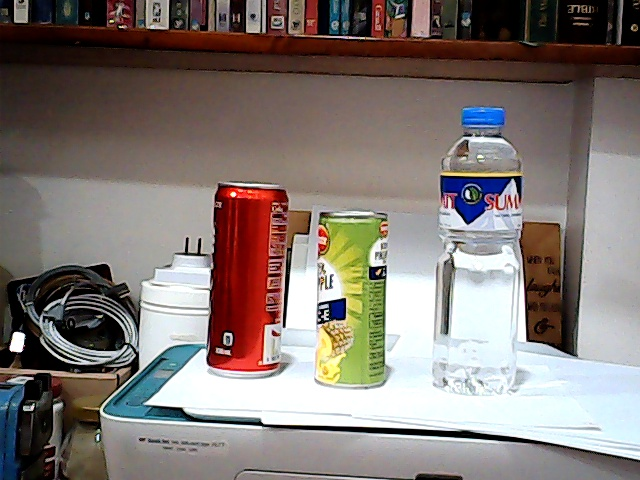Cola: (200, 173, 295, 391)
Pine Juice: (309, 202, 393, 397)
Summit Water: (434, 102, 528, 410)
